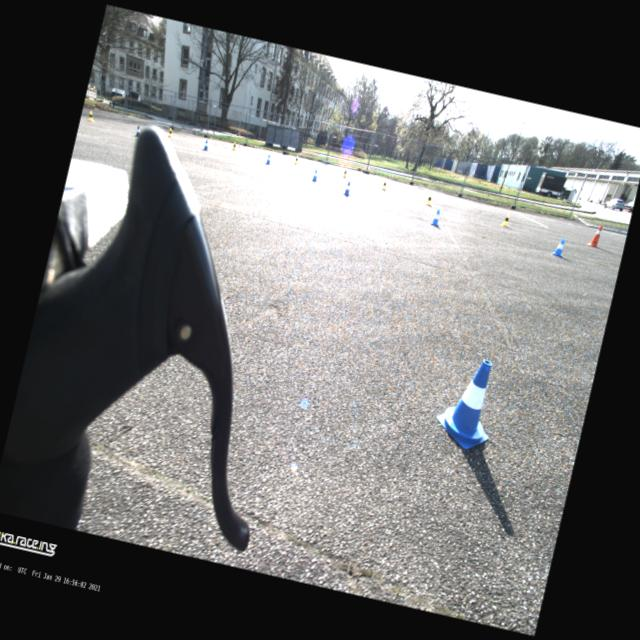blue_cone: (430, 351, 506, 453), (550, 235, 566, 257), (430, 208, 442, 226), (342, 180, 352, 196), (311, 168, 319, 181), (202, 139, 210, 151), (134, 125, 142, 136), (265, 153, 272, 165)
large_orange_cone: (586, 222, 602, 248)
yellow_cone: (500, 212, 511, 227), (86, 110, 96, 122), (424, 194, 434, 206), (380, 180, 388, 191), (230, 140, 238, 150), (167, 126, 173, 138), (293, 154, 299, 165), (342, 168, 348, 178)
